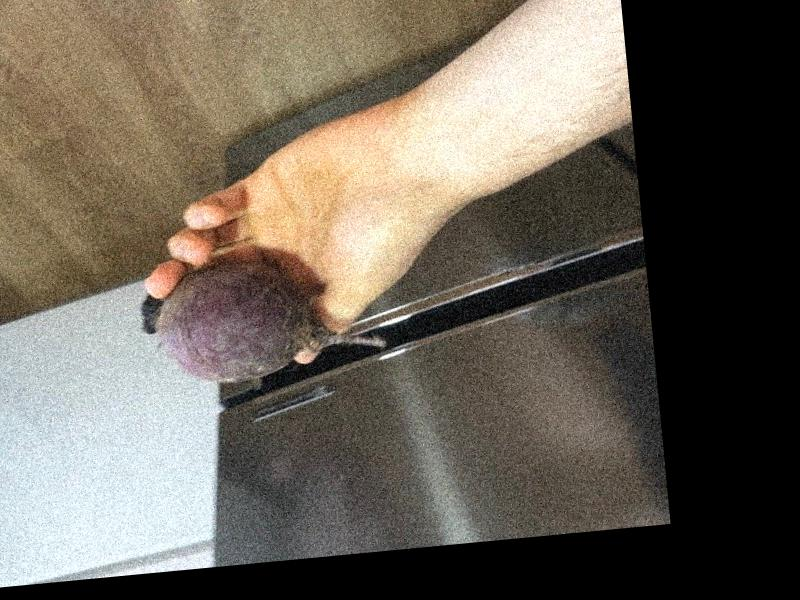Beet: (135, 252, 385, 388)
